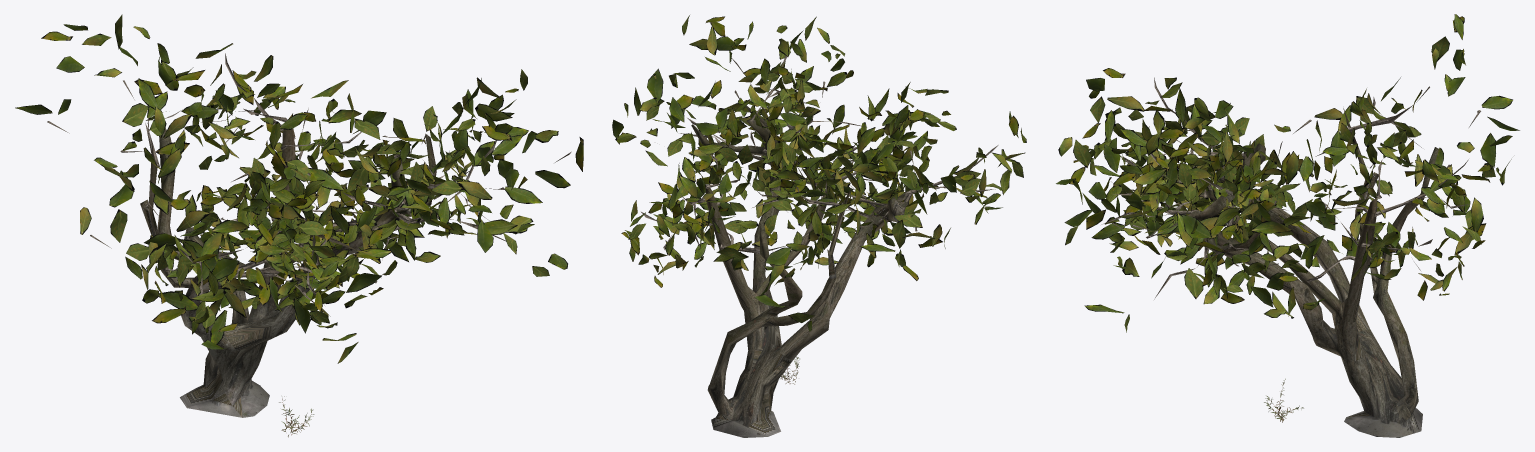
File: tree-7da461dd6b73.glb
The picture shows the model from 3 angles, left to right: view 1: azimuth 30°, elevation 25°; view 2: azimuth 150°, elevation 25°; view 3: azimuth 270°, elevation 25°; orthographic projection. The views are drawn at different scales.
Parts seen in each view (by area): view 1: island_tree_02_LOD0; view 2: island_tree_02_LOD0; view 3: island_tree_02_LOD0.
Boxes of the visible parts, x1=… form: island_tree_02_LOD0: x1=15, y1=14, x2=583, y2=417; island_tree_02_LOD0: x1=612, y1=15, x2=1026, y2=437; island_tree_02_LOD0: x1=1056, y1=14, x2=1519, y2=437.
Size of the model in its own units: 12.34 by 10.74 by 12.9.
4 materials, 4 textured.
